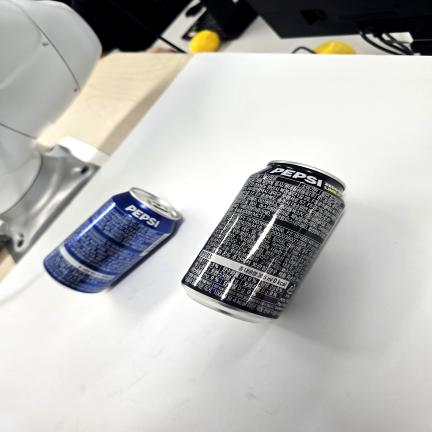can_pepsi: (39, 190, 181, 295)
can_pepsi_zero: (179, 162, 348, 326)
